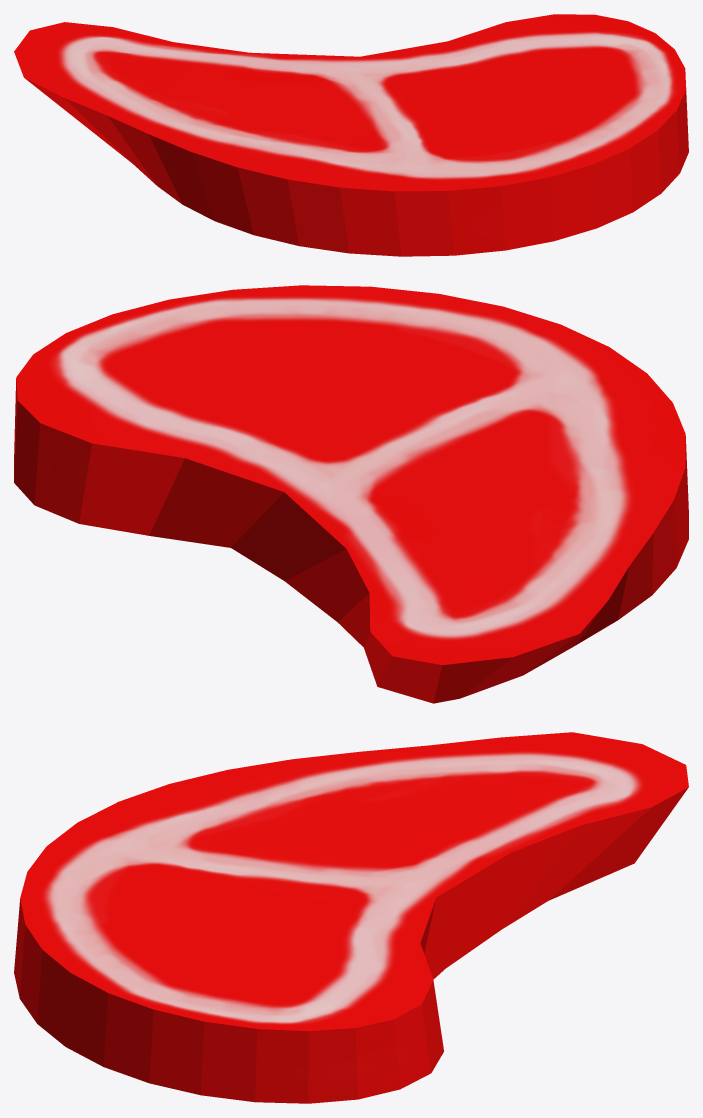
File: carneCruda.obj
3 renders of one model, top to bottom at view 1: azimuth 30°, elevation 25°; view 2: azimuth 150°, elevation 25°; view 3: azimuth 270°, elevation 25°, orthographic. The views are drawn at different scales.
Parts seen in each view (by area): view 1: Cylinder; view 2: Cylinder; view 3: Cylinder.
Boxes of the visible parts, x1,y1,x2,y2 form: Cylinder: [14, 14, 688, 256]; Cylinder: [14, 285, 688, 703]; Cylinder: [14, 732, 688, 1103].
Size of the model in its own units: 2.23 by 0.2803 by 2.13.
